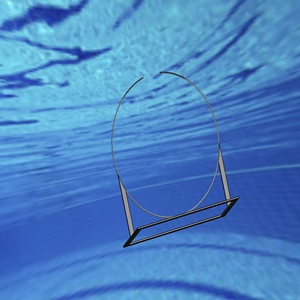circle: (109, 70, 239, 247)
